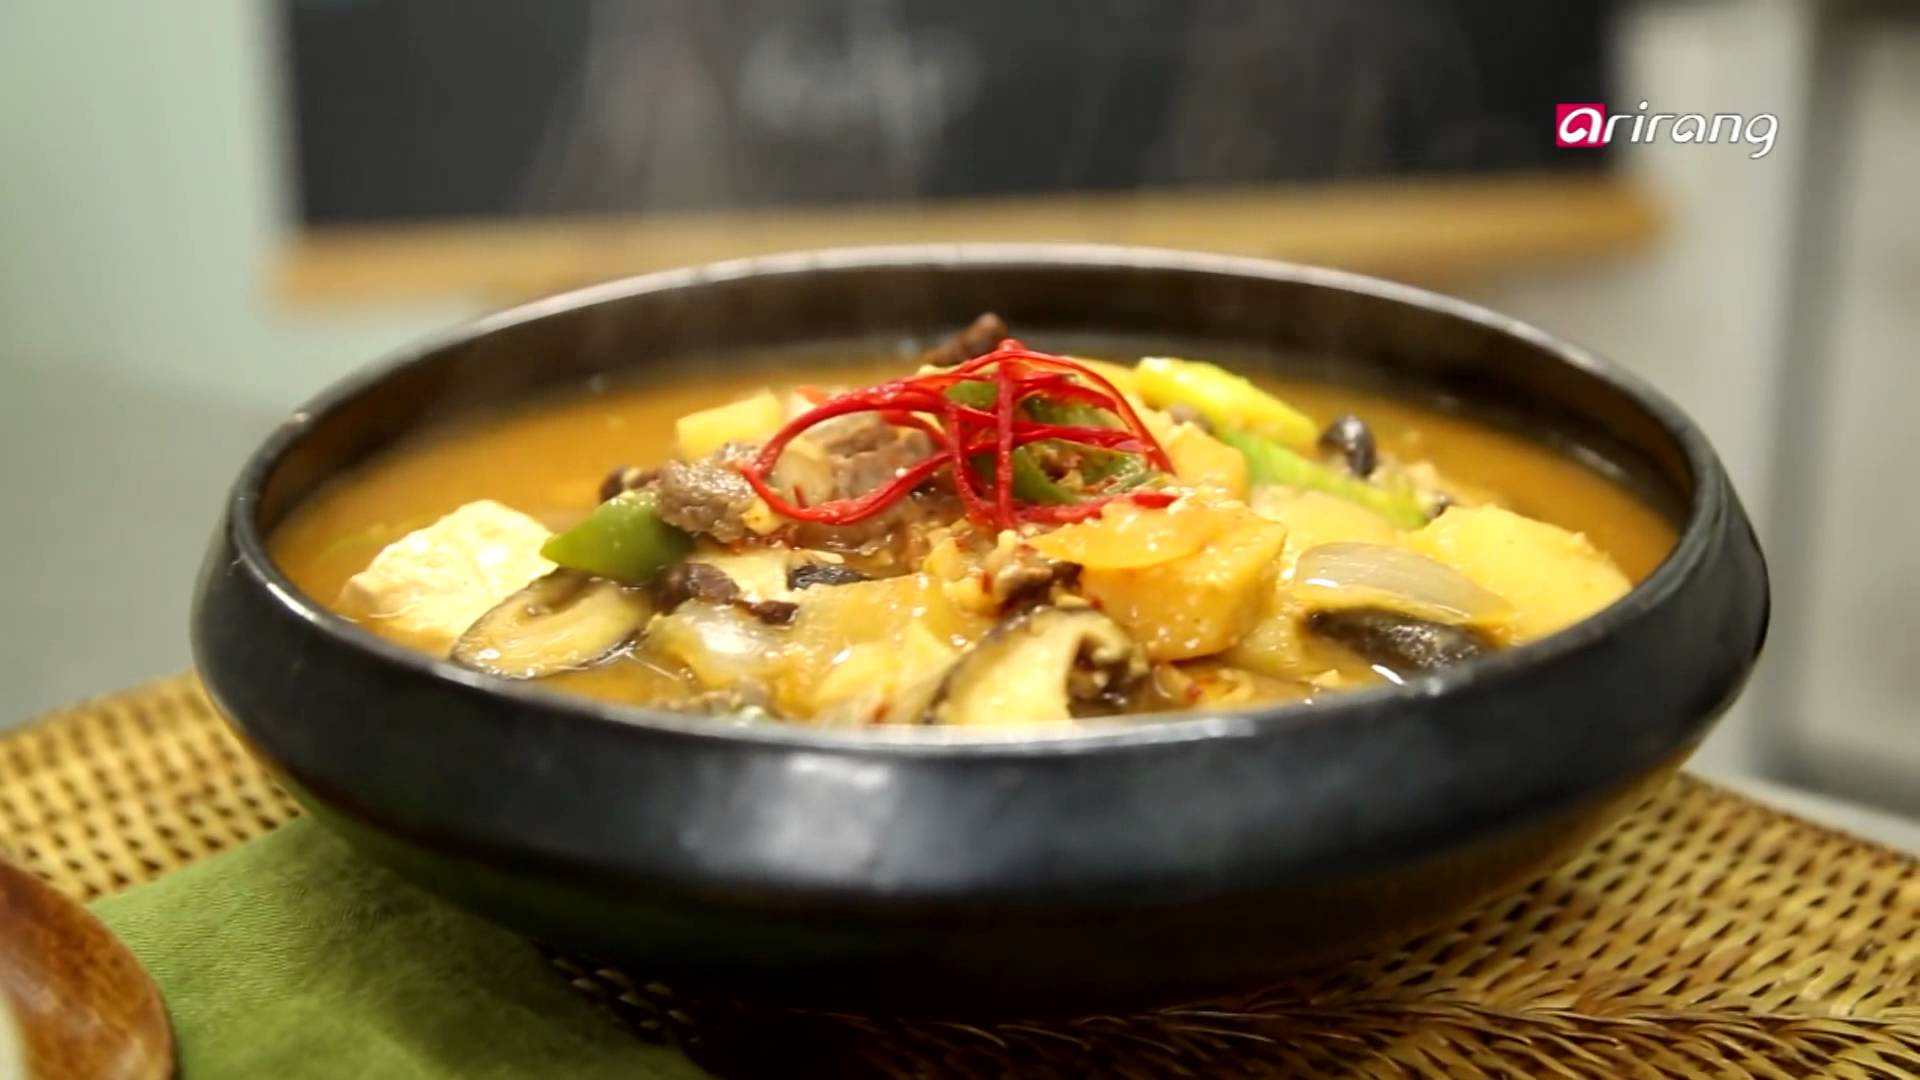doenjangjjigae: (258, 338, 1675, 728)
